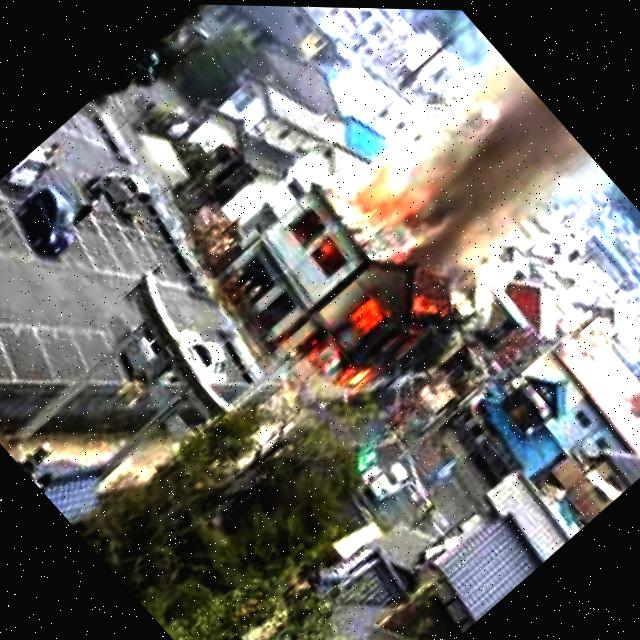Fire: (296, 255, 457, 414), (306, 232, 350, 278)
Smoke: (314, 28, 612, 331)
